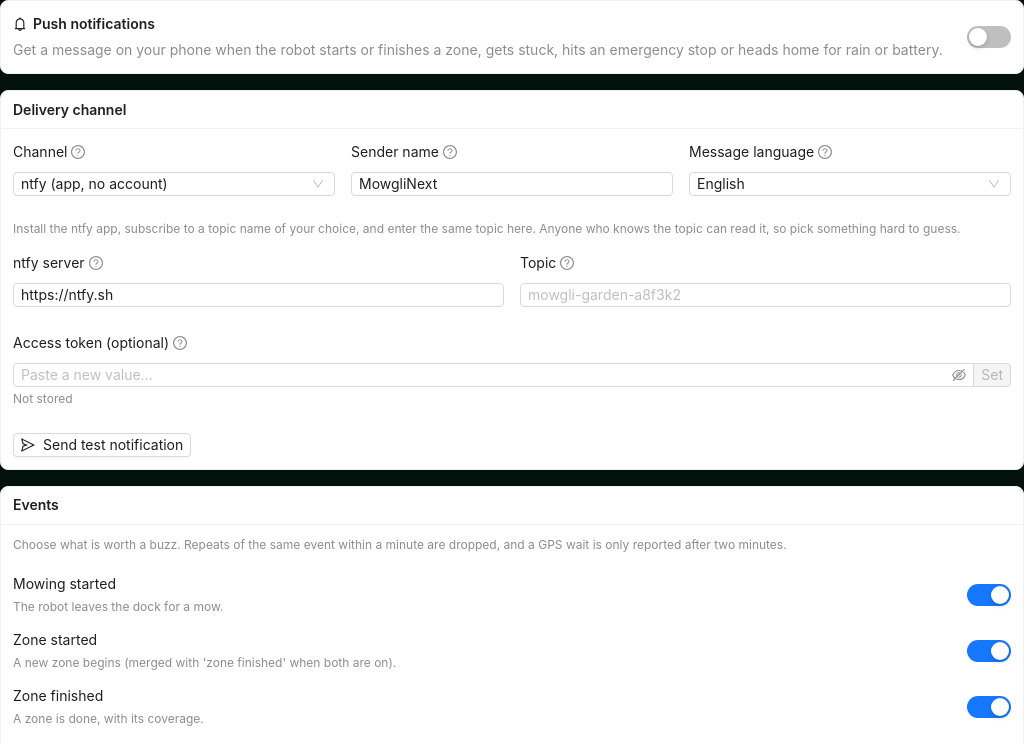
Test: NotificationsSection › send test saves pending edits first, then posts the test
Type "mowgli-garden" into the field named "Topic". click: (766, 295)
box: [520,283,1011,307]
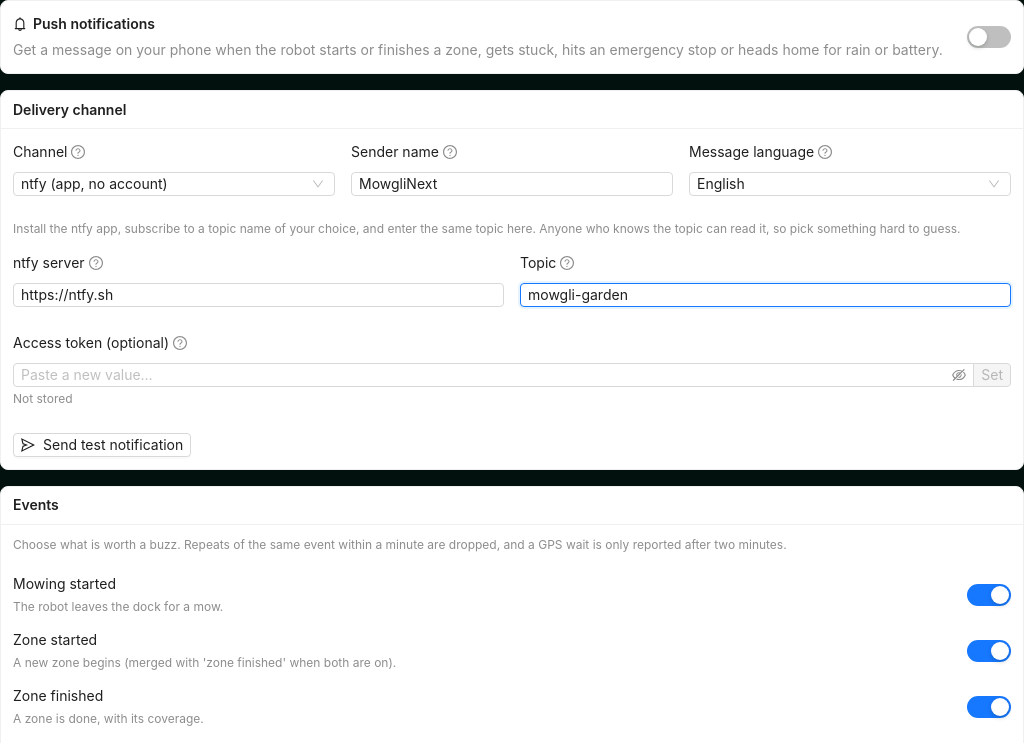
Click the button "Send test notification". click: click(102, 445)
box: [13,433,191,457]
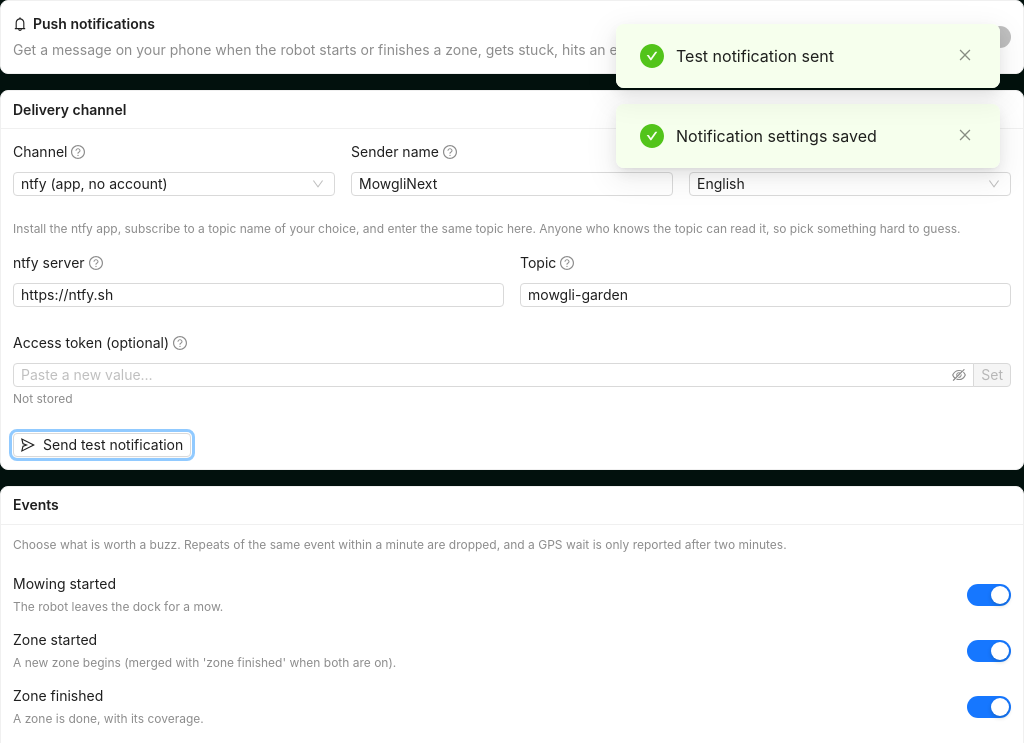
Now the text "Test notification sent" is shown, box [676,46,834,66]
